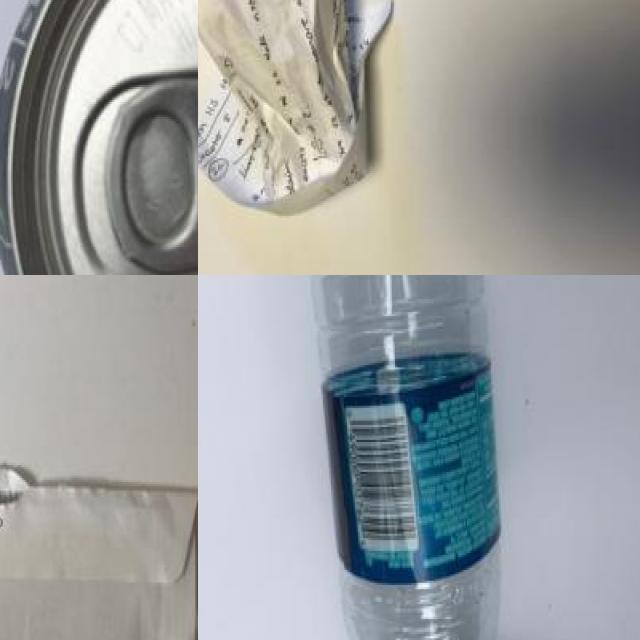paper: (198, 0, 395, 204), (0, 439, 198, 640)
plastic: (293, 275, 511, 640), (0, 0, 198, 275)
